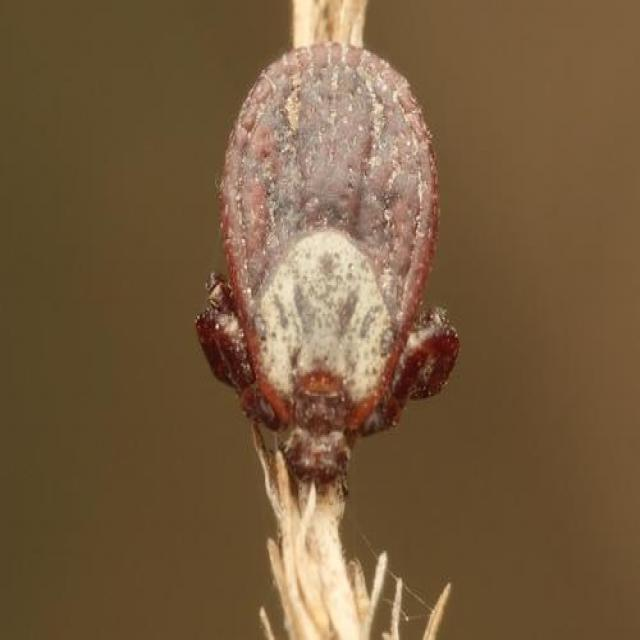Dermacentor Reticulatus-F: (196, 43, 460, 482)
